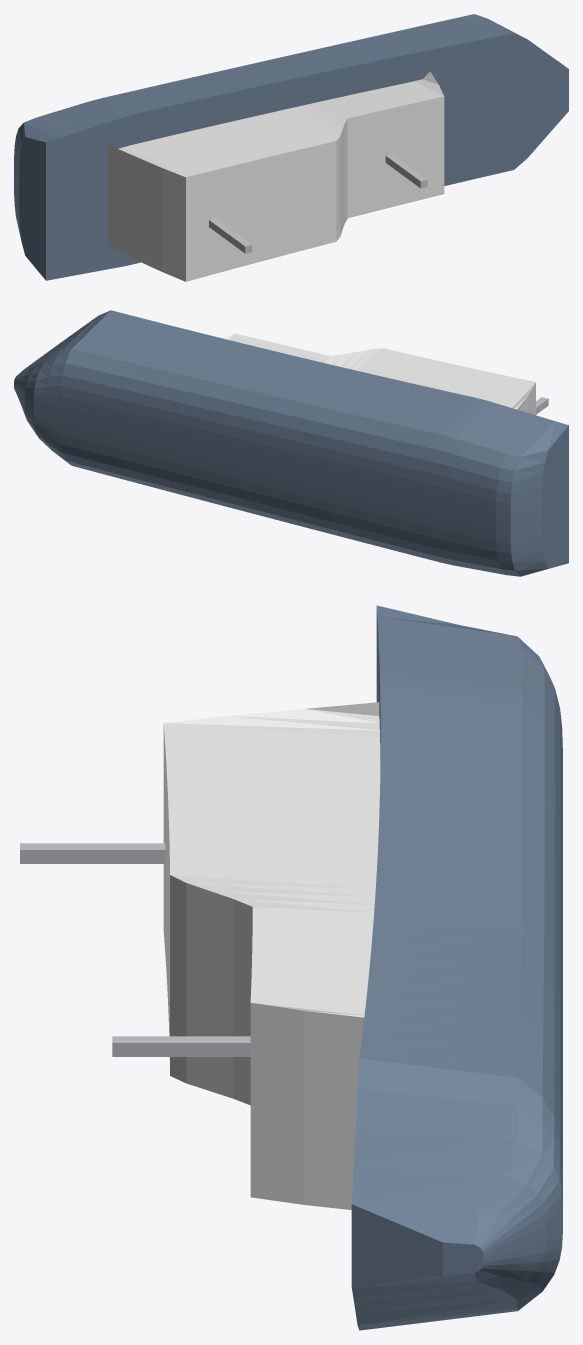
File: loft-power-large-highside.glb
3 views of the same model, one above another, from view 1: azimuth 30°, elevation 25°; view 2: azimuth 150°, elevation 25°; view 3: azimuth 270°, elevation 25° (orthographic). The views are drawn at different scales.
Visible parts, largest first — view 1: loft-power-large-highside; view 2: loft-power-large-highside; view 3: loft-power-large-highside.
Boxes of the visible parts, x1,y1,x2,y2 form: loft-power-large-highside: (14, 14, 568, 281); loft-power-large-highside: (14, 310, 568, 576); loft-power-large-highside: (20, 605, 562, 1330).
Bounding box in the file's own units: 1.87 × 0.5051 × 0.832.
